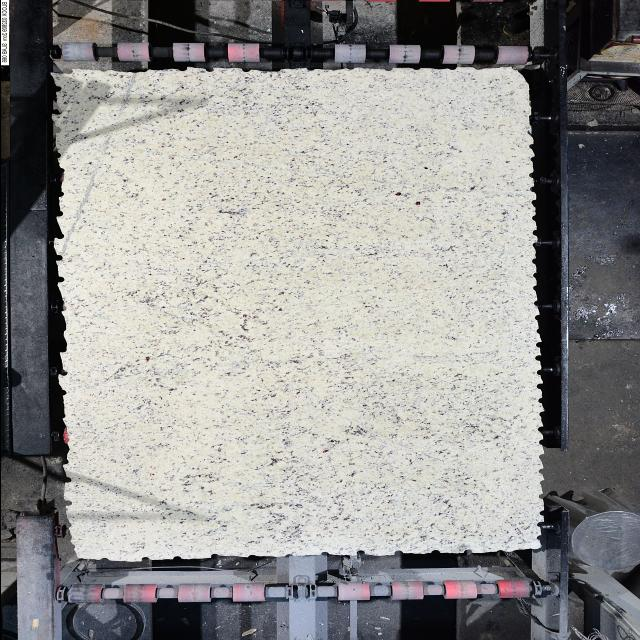chapa: (54, 69, 542, 561)
veio: (353, 549, 368, 557), (62, 498, 73, 508), (54, 275, 66, 284), (56, 370, 69, 378), (138, 556, 152, 563), (392, 549, 404, 556), (534, 341, 544, 349), (532, 354, 542, 362), (62, 476, 72, 484), (54, 253, 62, 263), (534, 382, 542, 391), (460, 550, 474, 554)
